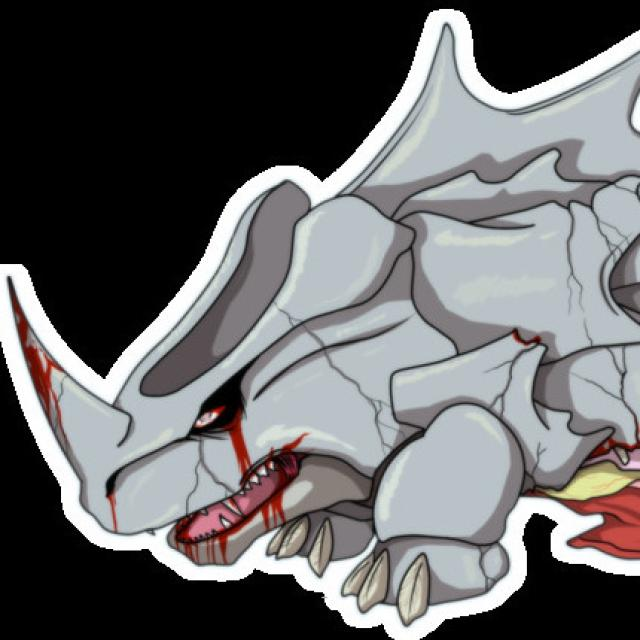Rhyhorn: (0, 110, 551, 632)
